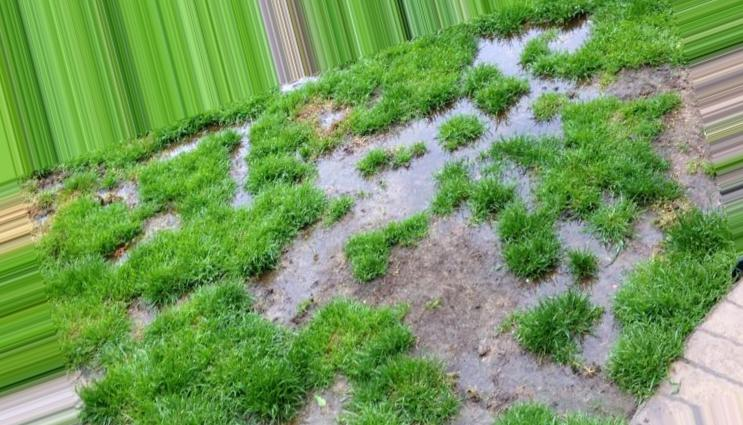patch: (379, 252, 556, 340), (440, 331, 586, 410), (291, 240, 353, 303), (372, 167, 438, 214), (480, 38, 529, 78), (325, 156, 372, 194), (403, 122, 453, 156), (585, 76, 676, 94), (146, 211, 183, 243), (102, 182, 134, 205)
